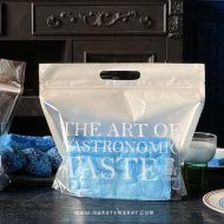snack: (29, 56, 210, 204)
